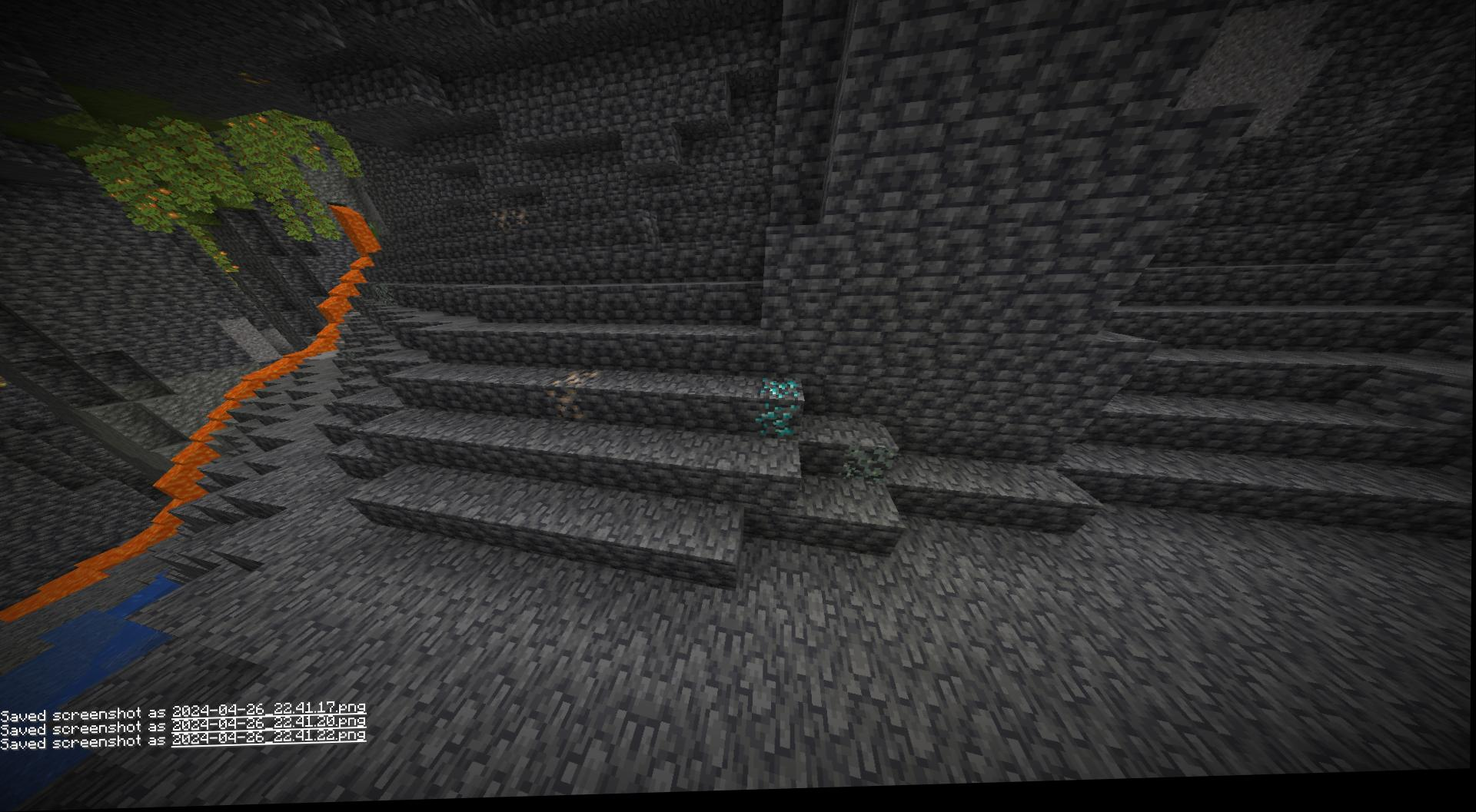diamond ore: (757, 379, 806, 444)
iron ore: (547, 388, 589, 427), (553, 370, 598, 391), (492, 209, 530, 231)
